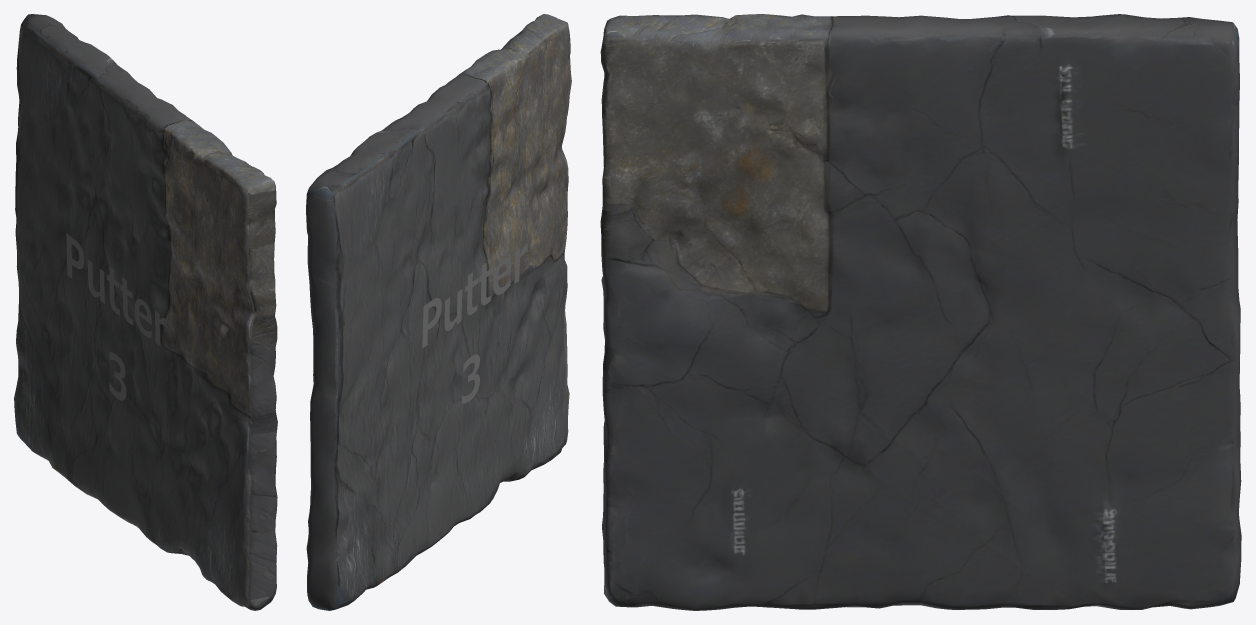
Rendered from Putter3.fbx.
The picture shows the model from 3 angles, left to right: view 1: azimuth 30°, elevation 25°; view 2: azimuth 150°, elevation 25°; view 3: azimuth 270°, elevation 25°; orthographic projection. The views are drawn at different scales.
Visible parts, largest first — view 1: input, テキスト プラス001; view 2: input, テキスト プラス001; view 3: input.
Boxes of the visible parts, x1=… form: input: x1=14, y1=14, x2=277, y2=610; テキスト プラス001: x1=66, y1=233, x2=166, y2=400; input: x1=306, y1=14, x2=571, y2=610; テキスト プラス001: x1=422, y1=243, x2=527, y2=403; input: x1=600, y1=14, x2=1241, y2=610.
Bounding box in the file's own units: 24.93 × 198 × 198.
